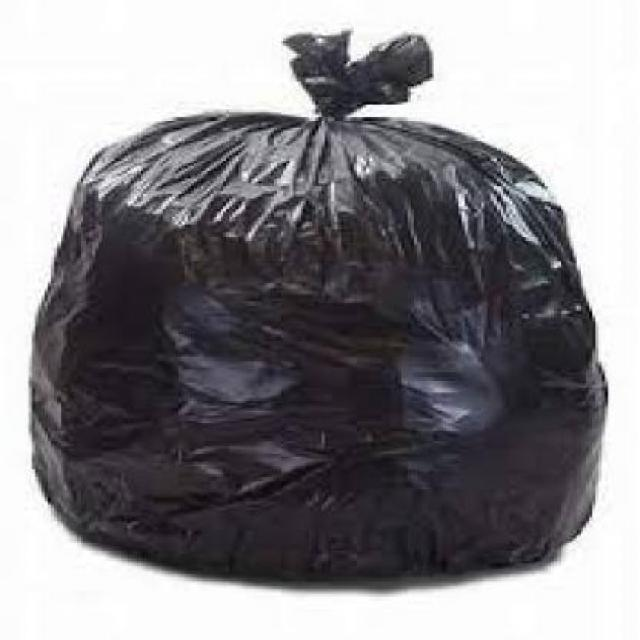garbage: (14, 16, 612, 610)
